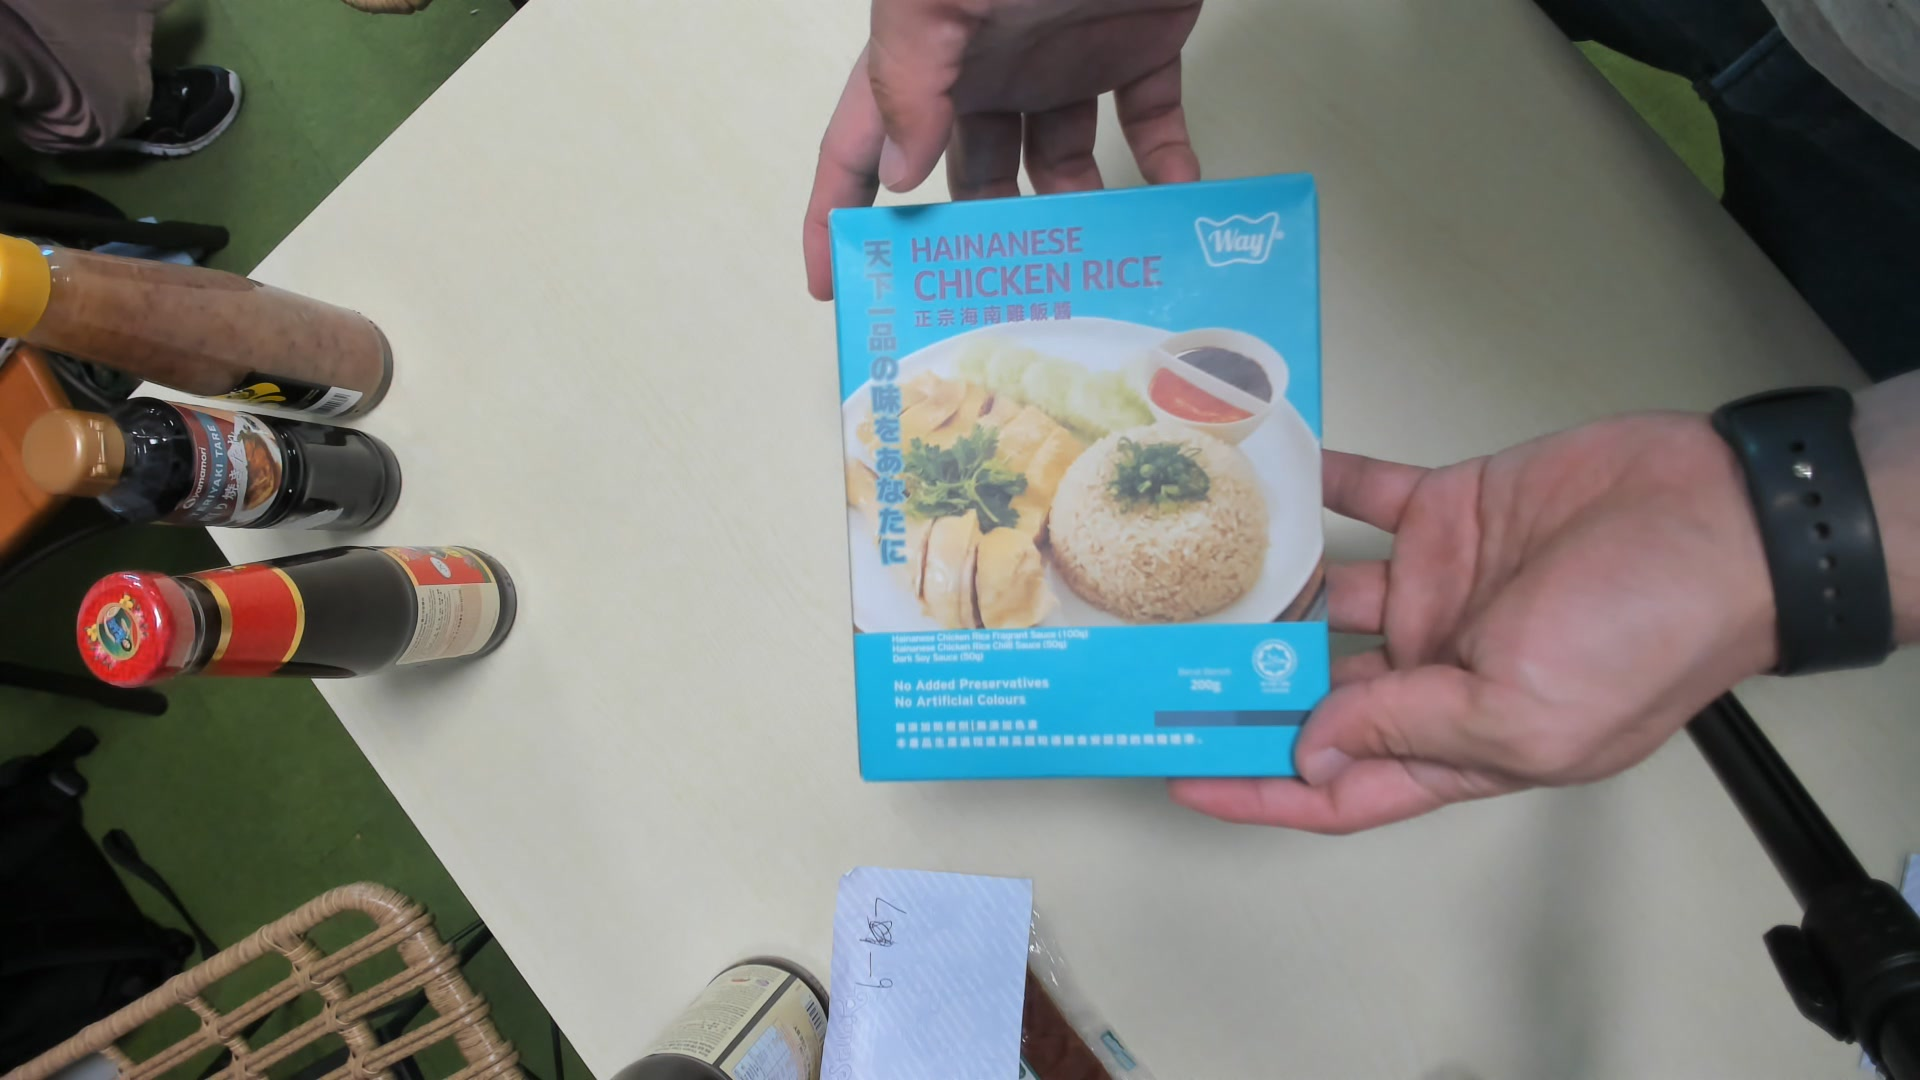OtherSauceDressingSoupbasePaste_200-299g_Halal_NonHealthy: (829, 187, 1335, 790)
